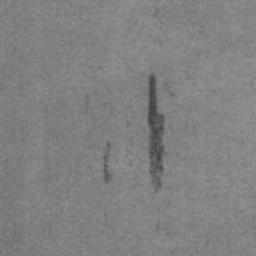Iron scale compression: (147, 73, 165, 194), (102, 141, 111, 185)
